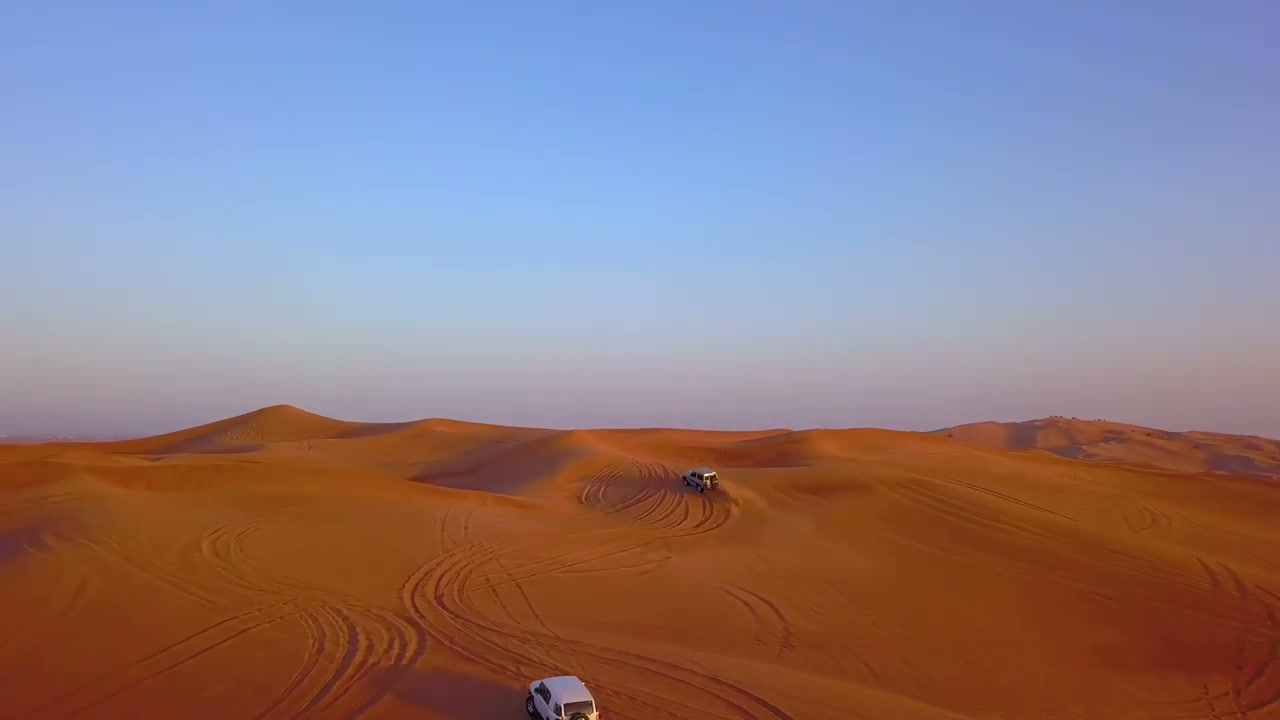vehicle_track: (403, 536, 793, 719), (13, 599, 305, 718), (721, 585, 795, 659)
